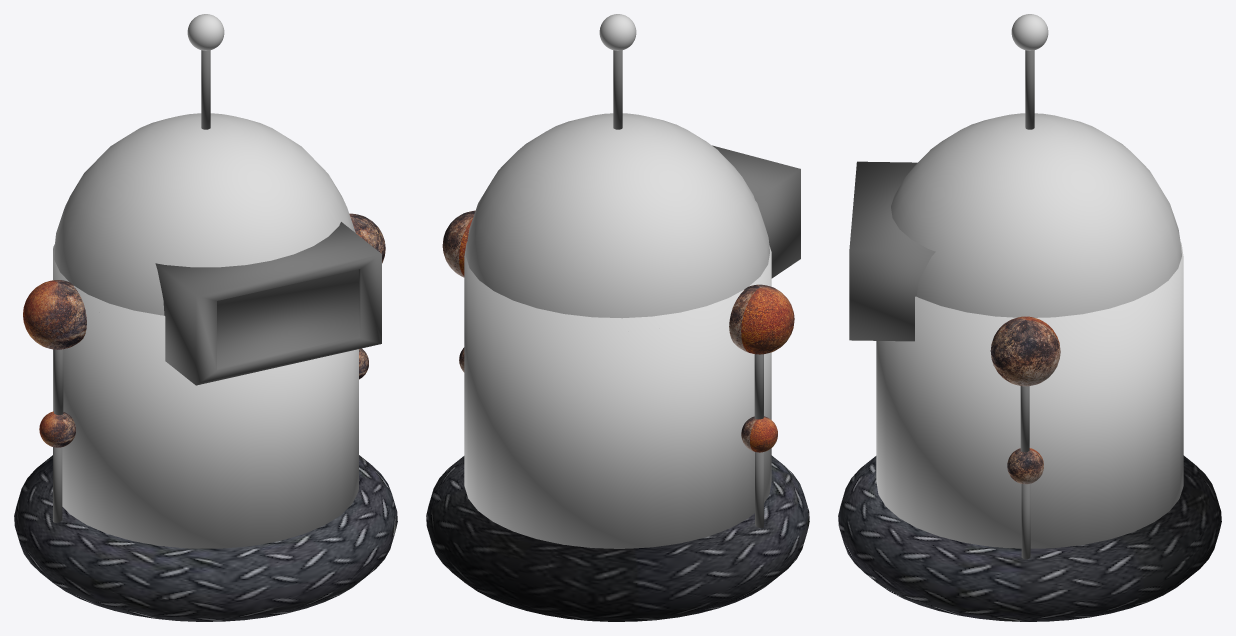
File: robot2.fbx
3 views of the same model, side by side, from view 1: azimuth 30°, elevation 25°; view 2: azimuth 150°, elevation 25°; view 3: azimuth 270°, elevation 25° (orthographic).
Parts seen in each view (by area): view 1: Cylinder, Torus.001, Cube, Sphere.004, Sphere.001, Sphere.002, Cylinder.001, Sphere.007, Cylinder.003, Cylinder.002; view 2: Cylinder, Torus.001, Cube, Sphere.004, Sphere.007, Sphere.001, Sphere.002, Cylinder.001, Cylinder.003, Cylinder.002; view 3: Cylinder, Torus.001, Cube, Sphere.007, Sphere.001, Sphere.005, Cylinder.001, Cylinder.005, Cylinder.004.
Part boxes in pixels (x1,y1,x2,y2): Cylinder: (53,113,358,548); Torus.001: (14,455,397,621); Cube: (155,222,381,385); Sphere.004: (23,280,86,349); Sphere.001: (187,14,224,50); Sphere.002: (39,411,75,447); Cylinder.001: (201,50,210,129); Sphere.007: (349,213,385,263); Cylinder.003: (53,447,62,522); Cylinder.002: (54,349,63,414); Cylinder: (464,113,771,548); Torus.001: (426,455,809,621); Cube: (712,145,800,278); Sphere.004: (729,284,794,354); Sphere.007: (442,210,475,277); Sphere.001: (599,14,636,50); Sphere.002: (741,416,777,452); Cylinder.001: (613,50,622,129); Cylinder.003: (755,452,763,527); Cylinder.002: (754,354,763,419); Cylinder: (876,113,1183,548); Torus.001: (838,455,1221,621); Cube: (849,161,935,341); Sphere.007: (990,316,1060,386); Sphere.001: (1011,14,1048,50); Sphere.005: (1007,448,1043,484); Cylinder.001: (1025,50,1034,129); Cylinder.005: (1021,483,1030,559); Cylinder.004: (1020,386,1029,452).
Size of the model in its own units: 262 by 386 by 250.
5 materials, 3 textured.
